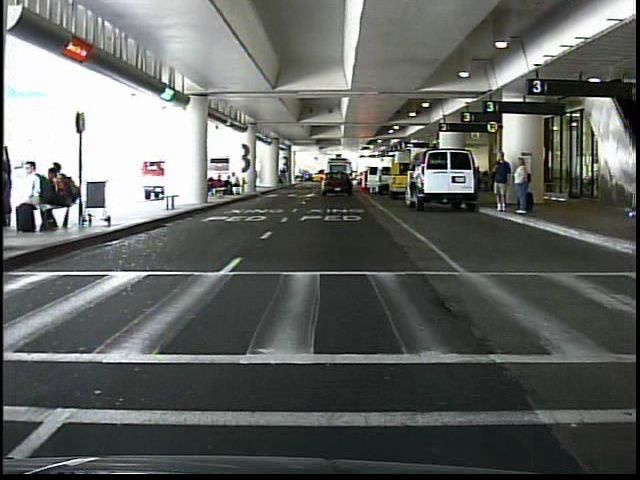person: (489, 148, 511, 217), (511, 154, 533, 221), (327, 170, 338, 193)
